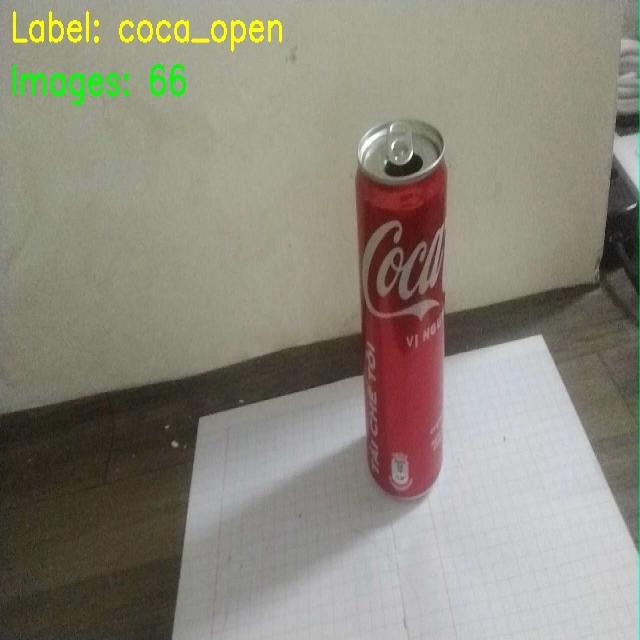Coca_open: (347, 112, 462, 505)
